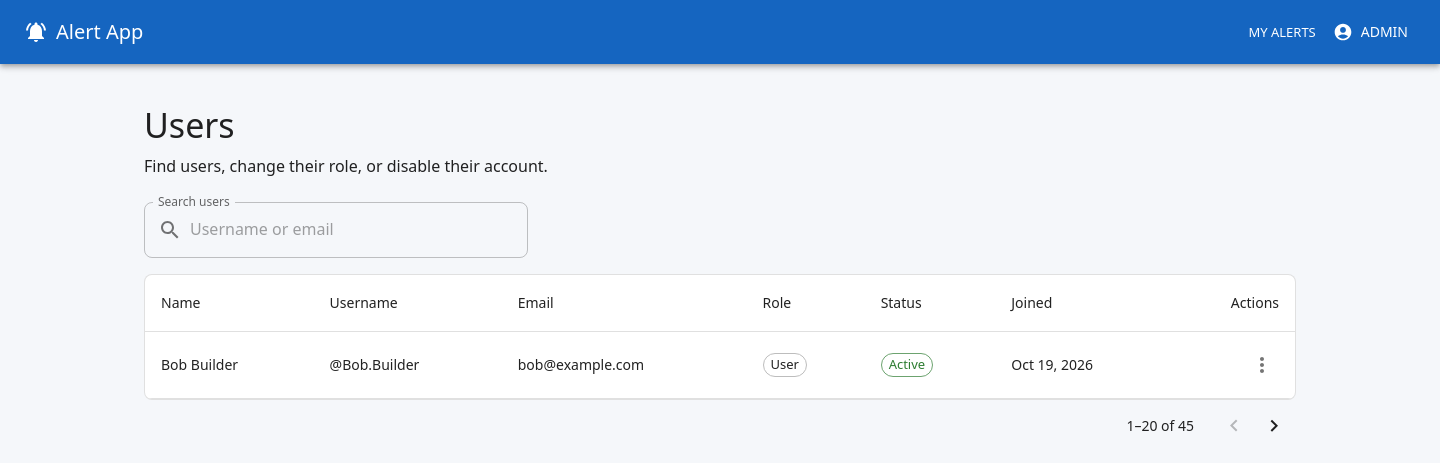
AdminUsersPage › loads the next page, and searches from page 1 after typing stops
Click the button named "Go to next page": (1274, 426) [1254, 406, 1294, 446]
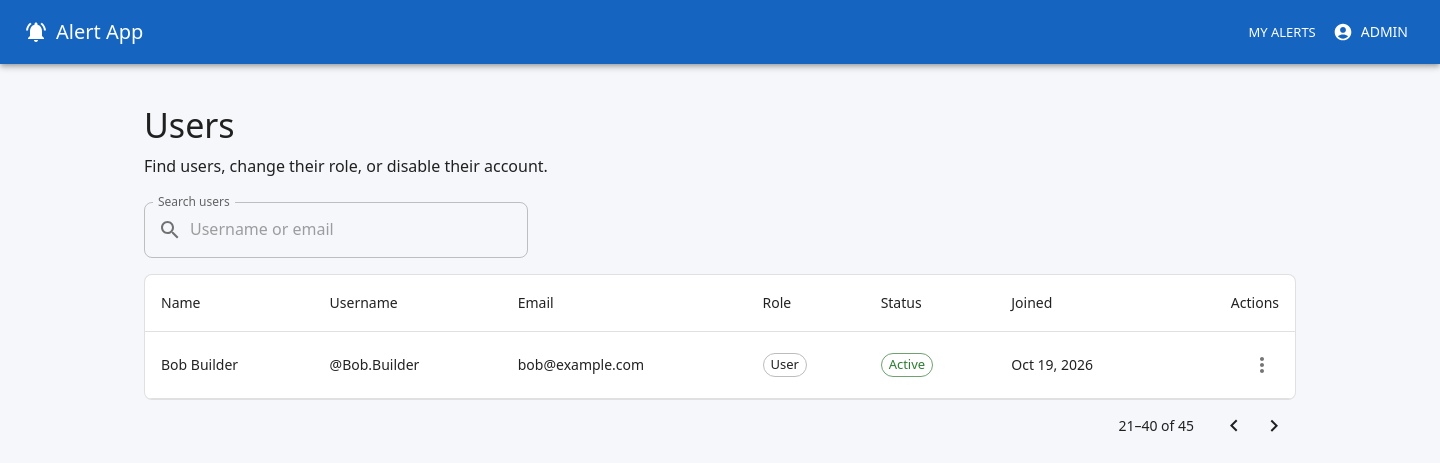
Expected: the text "21–40 of 45" is shown, [1118, 416, 1194, 436]
In the search field labelled "Search users": (359, 230) [190, 202, 528, 258], type "zzz"
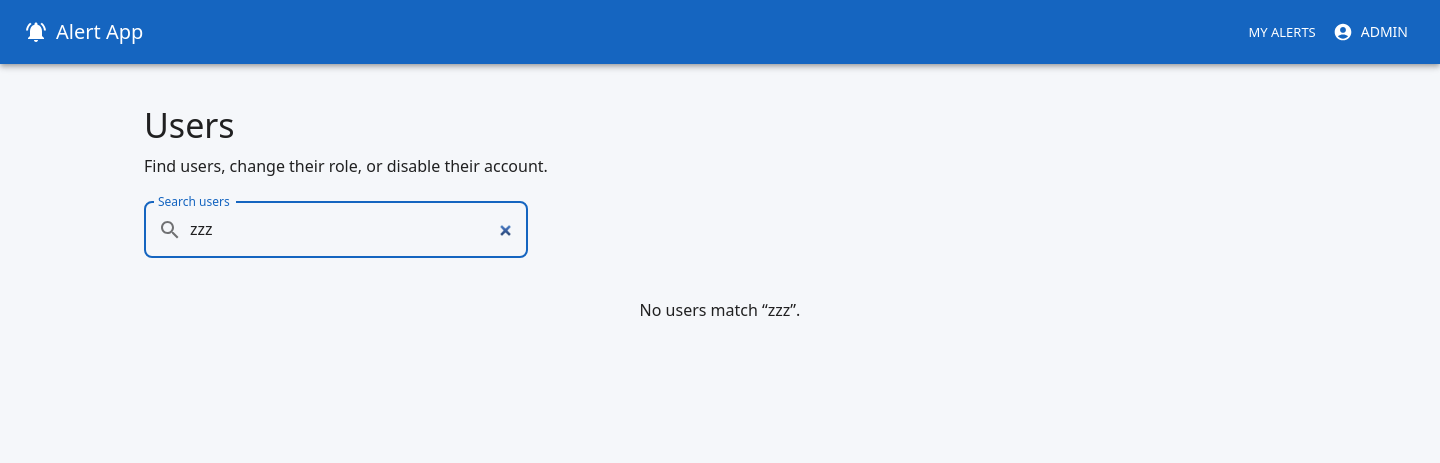
Expected: the text "No users match “zzz”." is shown, [640, 299, 800, 321]
